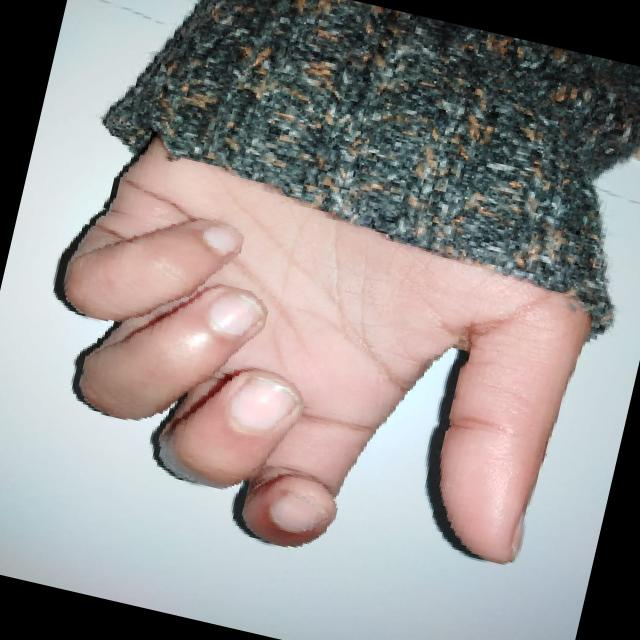Nail: (227, 371, 298, 430), (206, 288, 264, 338), (267, 493, 328, 531), (202, 224, 240, 255), (509, 501, 527, 557)
